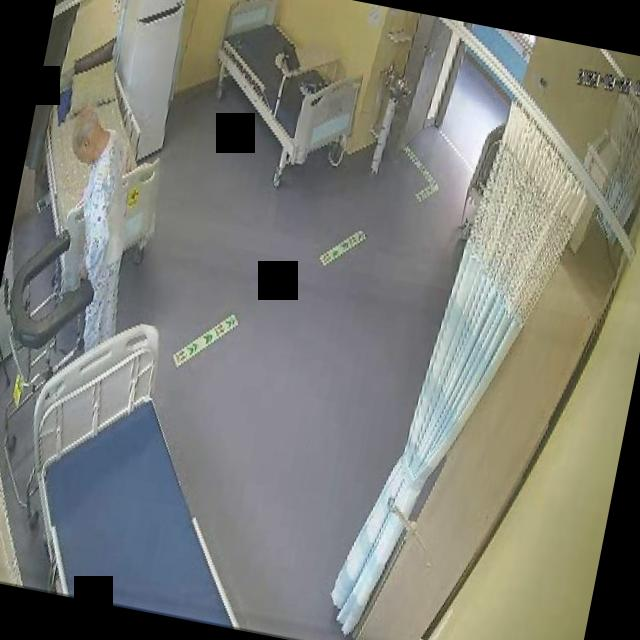bed: (0, 303, 288, 629), (18, 46, 185, 292), (202, 0, 376, 173)
patient: (31, 107, 159, 365)
stand: (30, 108, 158, 365)
walker: (0, 228, 102, 445)
